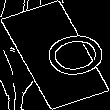O_SW: (13, 25, 97, 85)
